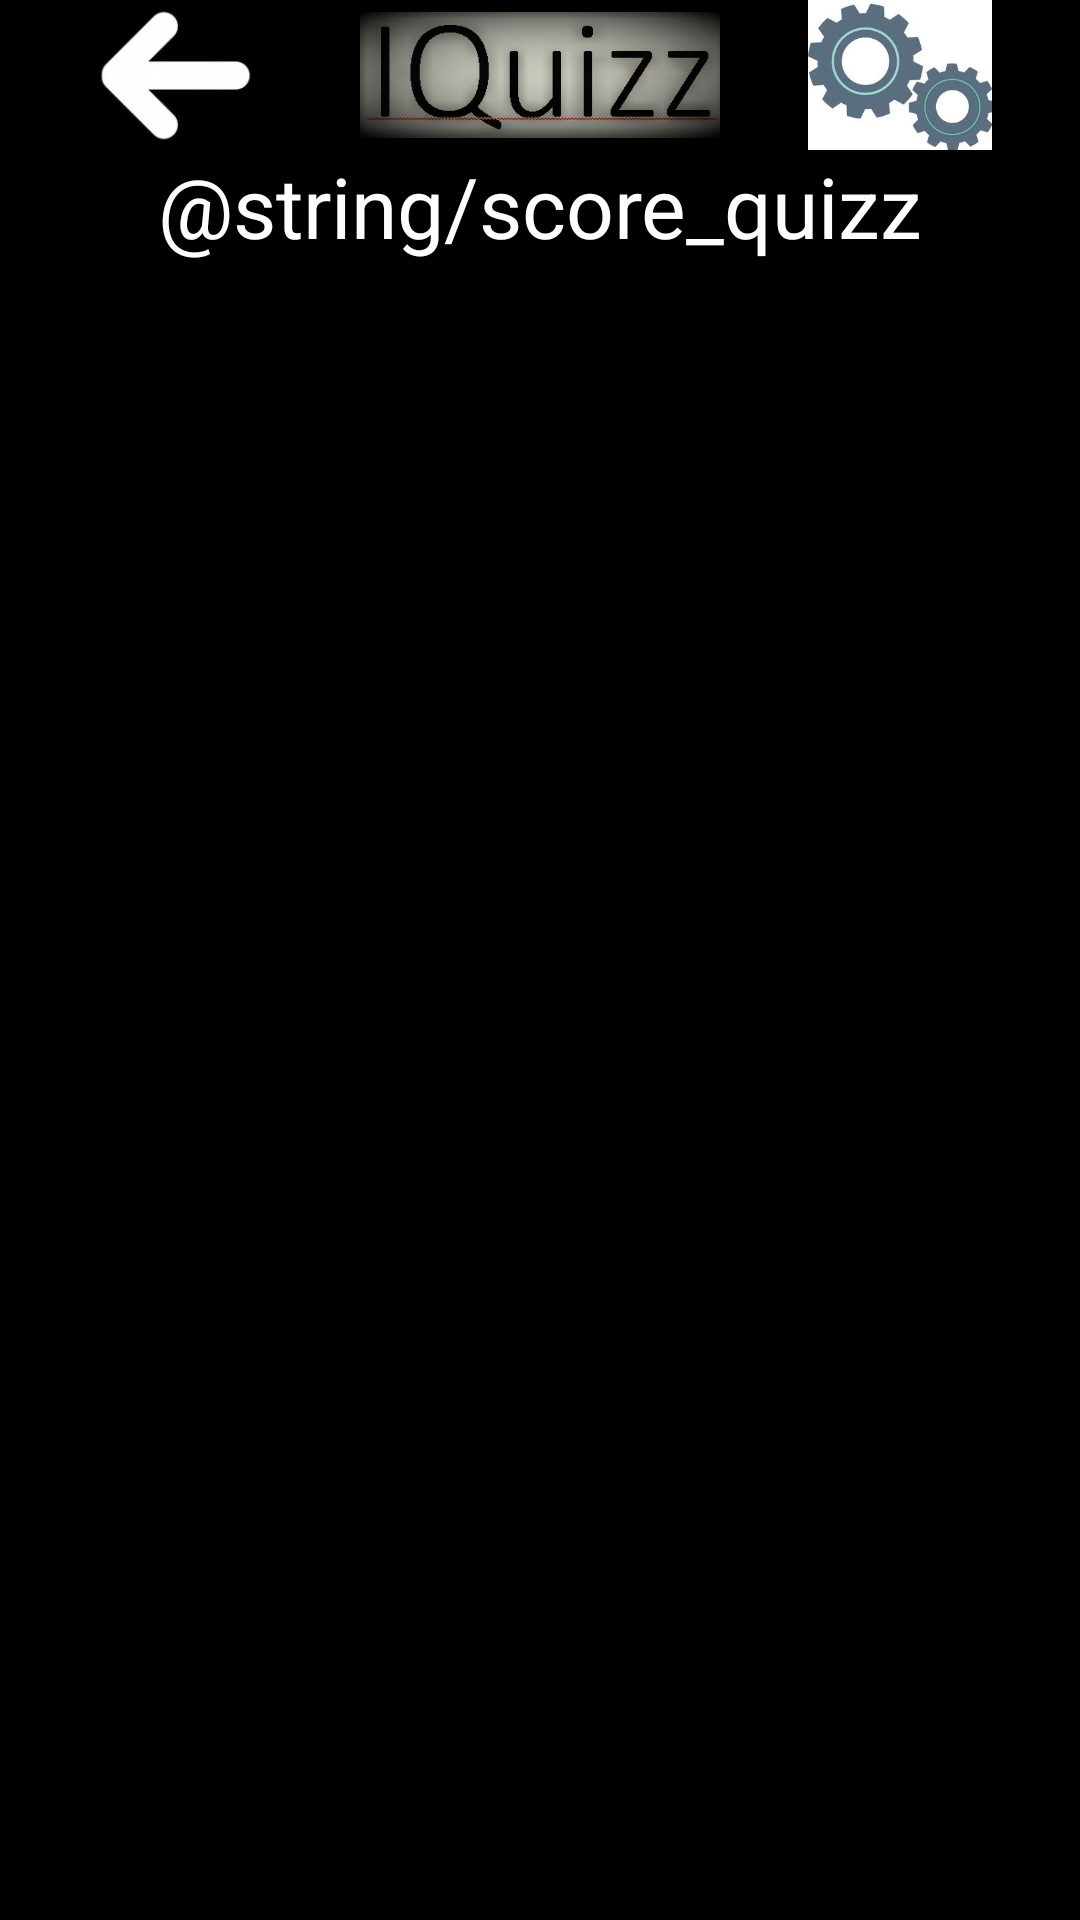

Screen size 1080w x 1920h. Icon name, then its box in pixels as (x1, y1, x2, y2):
engrenages: (808, 0, 992, 150)
fleche retour: (101, 11, 251, 140)
